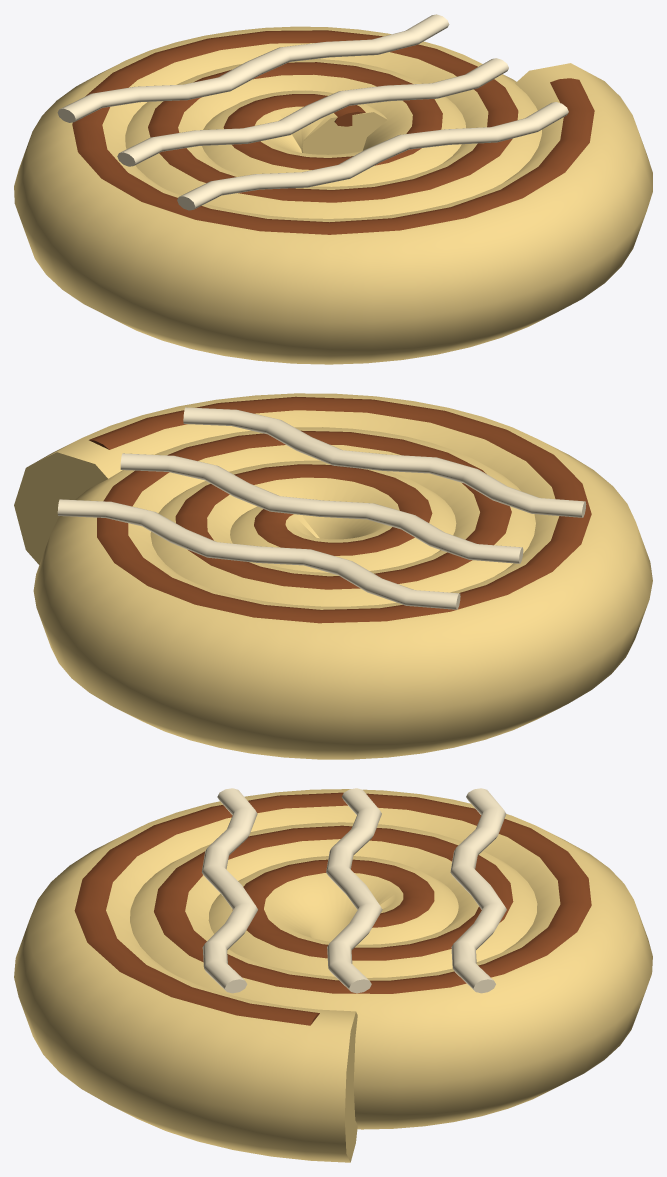
Rendered from cinnamon-roll.glb.
3 views of the same model, one above another, from view 1: azimuth 30°, elevation 25°; view 2: azimuth 150°, elevation 25°; view 3: azimuth 270°, elevation 25° (orthographic). The views are drawn at different scales.
Visible parts, largest first — view 1: edible_roll, edible_cinnamon, edible_icing, edible_icing.001, edible_icing.002; view 2: edible_roll, edible_cinnamon, edible_icing.001, edible_icing, edible_icing.002; view 3: edible_roll, edible_cinnamon, edible_icing.002, edible_icing, edible_icing.001.
Part boxes in pixels (left/top/right/bottom): edible_roll: left=14, top=26, right=652, bottom=364; edible_cinnamon: left=72, top=30, right=594, bottom=234; edible_icing: left=177, top=102, right=568, bottom=210; edible_icing.001: left=117, top=58, right=508, bottom=166; edible_icing.002: left=57, top=14, right=449, bottom=122; edible_roll: left=14, top=393, right=652, bottom=759; edible_cinnamon: left=89, top=396, right=591, bottom=623; edible_icing.001: left=120, top=453, right=523, bottom=563; edible_icing: left=183, top=407, right=586, bottom=517; edible_icing.002: left=57, top=499, right=460, bottom=609; edible_roll: left=14, top=789, right=652, bottom=1162; edible_cinnamon: left=74, top=792, right=591, bottom=1025; edible_icing.002: left=450, top=788, right=506, bottom=993; edible_icing: left=201, top=788, right=257, bottom=993; edible_icing.001: left=326, top=788, right=382, bottom=993.
Bounding box in the file's own units: 0.1199 × 0.0291 × 0.113.
